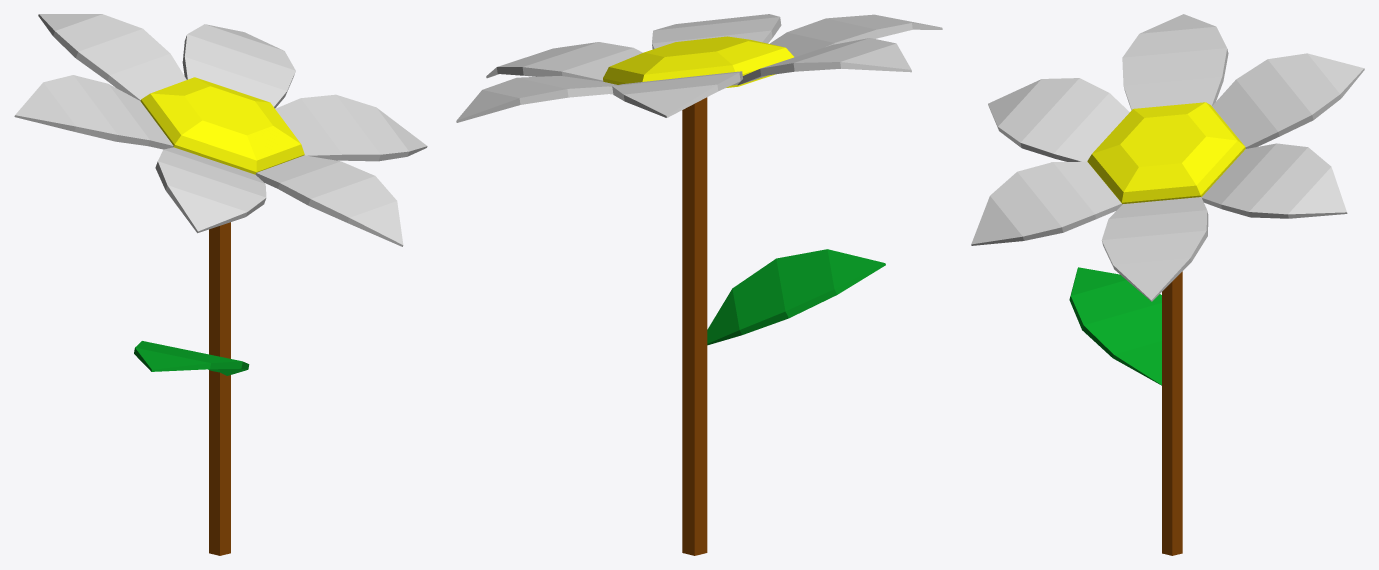
File: flowerwhite.glb
The picture shows the model from 3 angles, left to right: view 1: azimuth 30°, elevation 25°; view 2: azimuth 150°, elevation 25°; view 3: azimuth 270°, elevation 25°; orthographic projection. The views are drawn at different scales.
Visible parts, largest first — view 1: Cylinder.009; view 2: Cylinder.009; view 3: Cylinder.009.
Boxes of the visible parts, bbox=[...] form: Cylinder.009: bbox=[14, 14, 427, 555]; Cylinder.009: bbox=[456, 14, 942, 555]; Cylinder.009: bbox=[971, 14, 1364, 555].
Size of the model in its own units: 0.6228 by 0.7354 by 0.5759.
